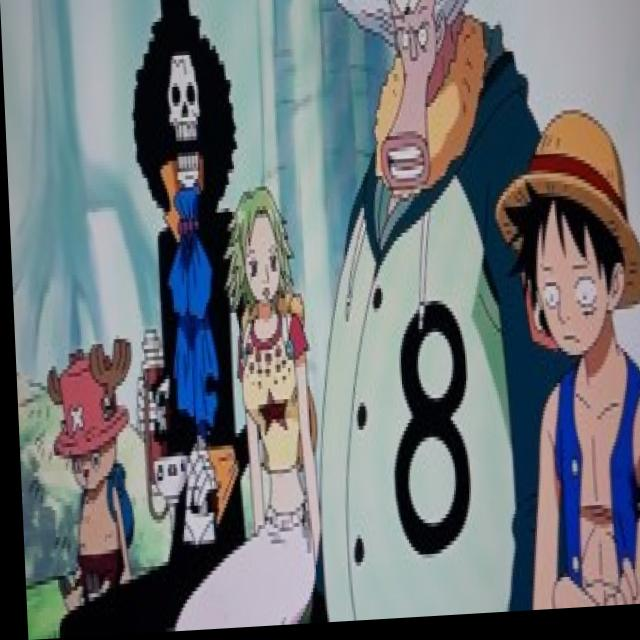Blook: (125, 2, 244, 219)
Chyopa: (42, 328, 140, 639)
Luffy: (488, 109, 640, 380)
